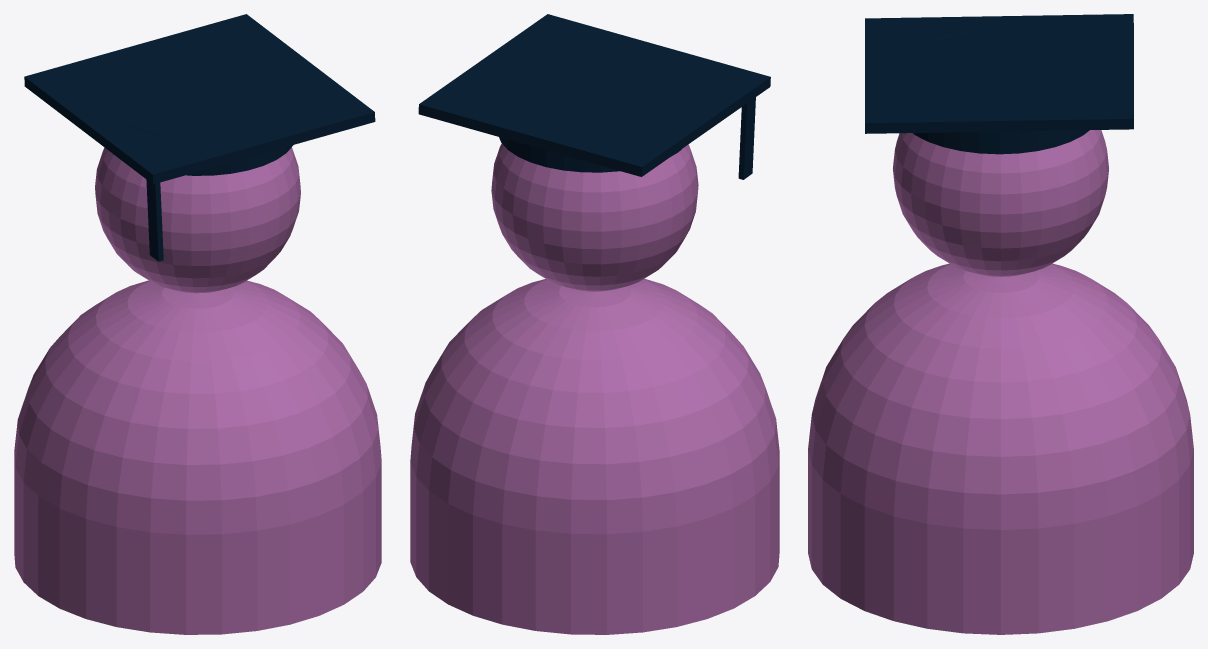
File: etudiant7.glb
3 renders of one model, left to right at view 1: azimuth 30°, elevation 25°; view 2: azimuth 150°, elevation 25°; view 3: azimuth 270°, elevation 25°, orthographic. The views are drawn at different scales.
Parts seen in each view (by area): view 1: Sphere, Cylinder, Cube, Sphere.001, Cylinder.001, Cube.001; view 2: Sphere, Cylinder, Cube, Sphere.001, Cylinder.001, Cube.001; view 3: Sphere, Cylinder, Cube, Sphere.001, Cylinder.001.
Boxes of the visible parts, x1=… form: Sphere: x1=14, y1=280, x2=381, y2=534; Cylinder: x1=14, y1=456, x2=381, y2=634; Cube: x1=24, y1=14, x2=375, y2=184; Sphere.001: x1=95, y1=147, x2=300, y2=293; Cylinder.001: x1=125, y1=123, x2=293, y2=175; Cube.001: x1=146, y1=179, x2=163, y2=261; Sphere: x1=410, y1=278, x2=779, y2=534; Cylinder: x1=410, y1=453, x2=779, y2=634; Cube: x1=418, y1=14, x2=770, y2=176; Sphere.001: x1=491, y1=143, x2=698, y2=291; Cylinder.001: x1=499, y1=84, x2=691, y2=172; Cube.001: x1=738, y1=97, x2=755, y2=179; Sphere: x1=808, y1=263, x2=1193, y2=529; Cylinder: x1=808, y1=449, x2=1193, y2=634; Cube: x1=865, y1=14, x2=1133, y2=133; Sphere.001: x1=893, y1=130, x2=1108, y2=276; Cylinder.001: x1=913, y1=30, x2=1089, y2=154.
Bounding box in the file's own units: 0.7942 × 1.12 × 0.7942.
